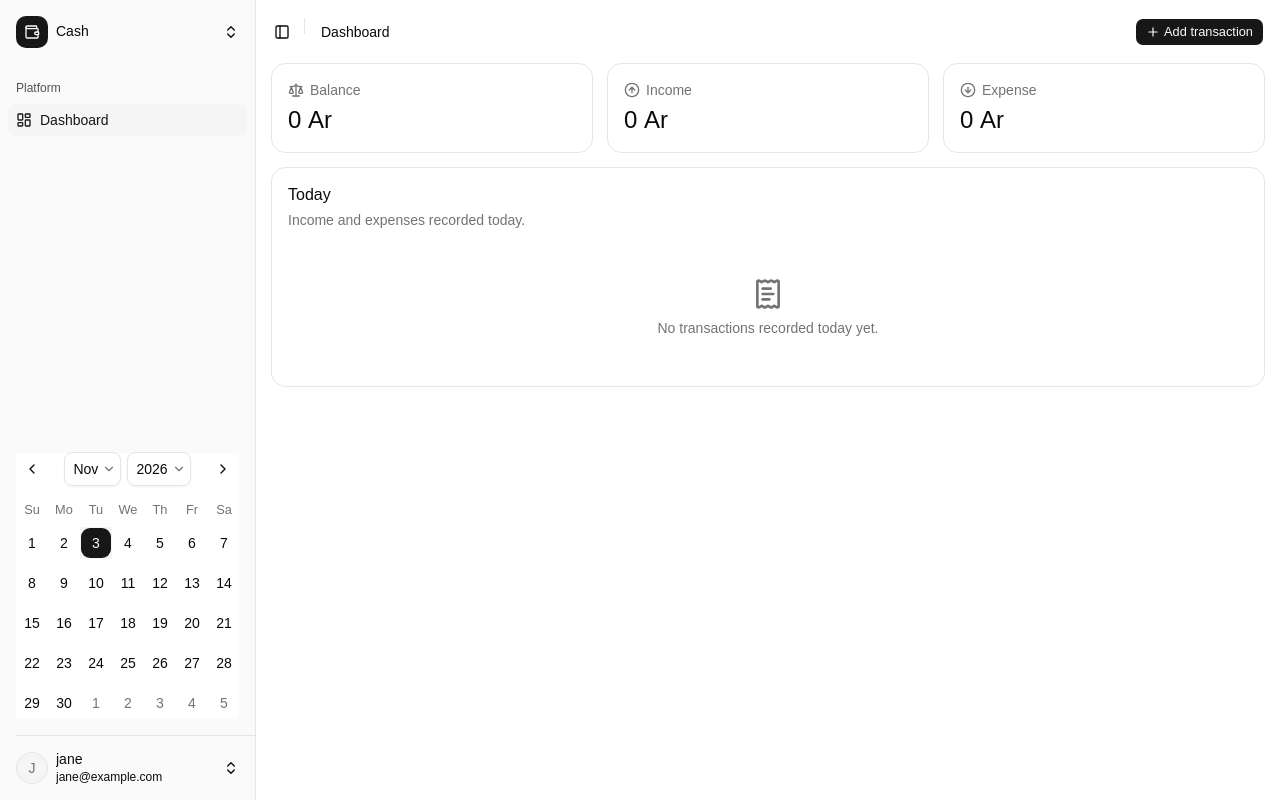
Test case: Adding an account › flags a name that is too short only once the user tries to create it
The width and height of the screenshot is (1280, 800).
Click the button "Cash" at (128, 32), box [8,8,247,56]
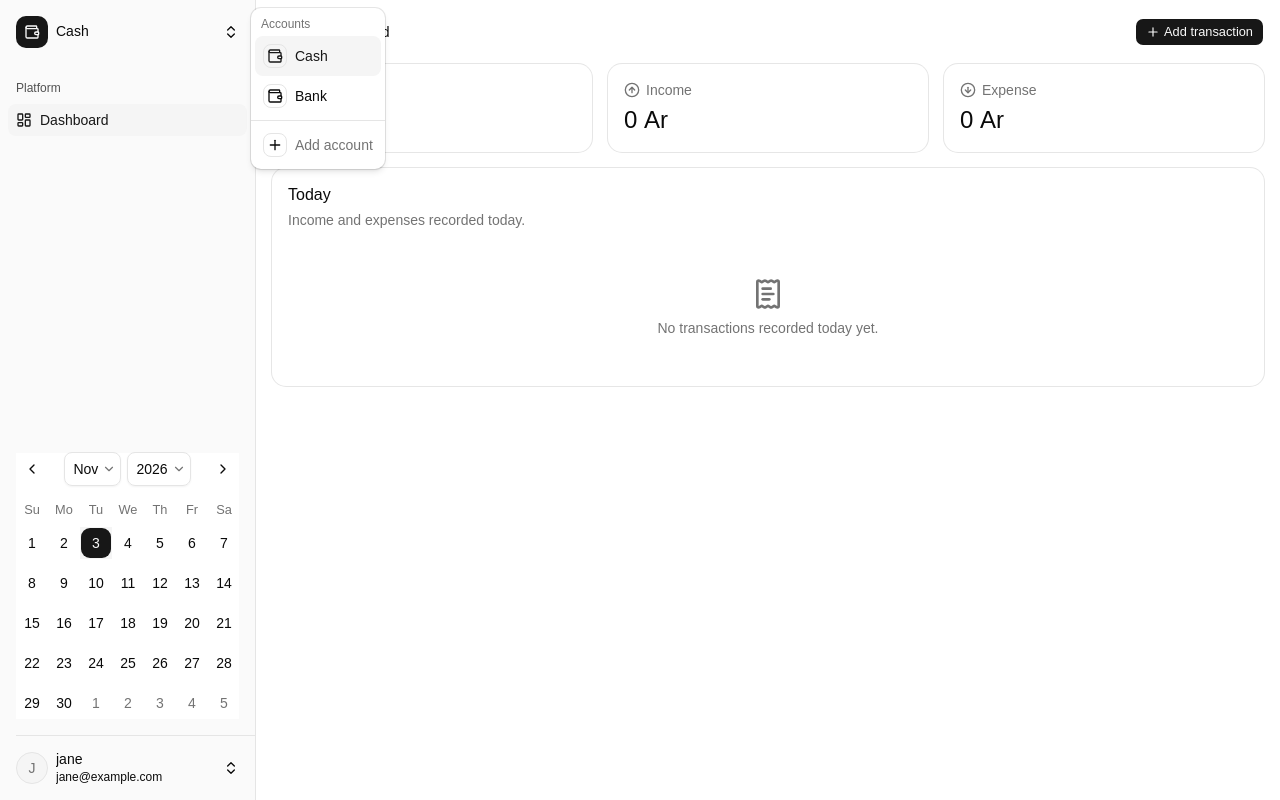
Click the menu item "Add account" at (318, 145), box [255,125,381,165]
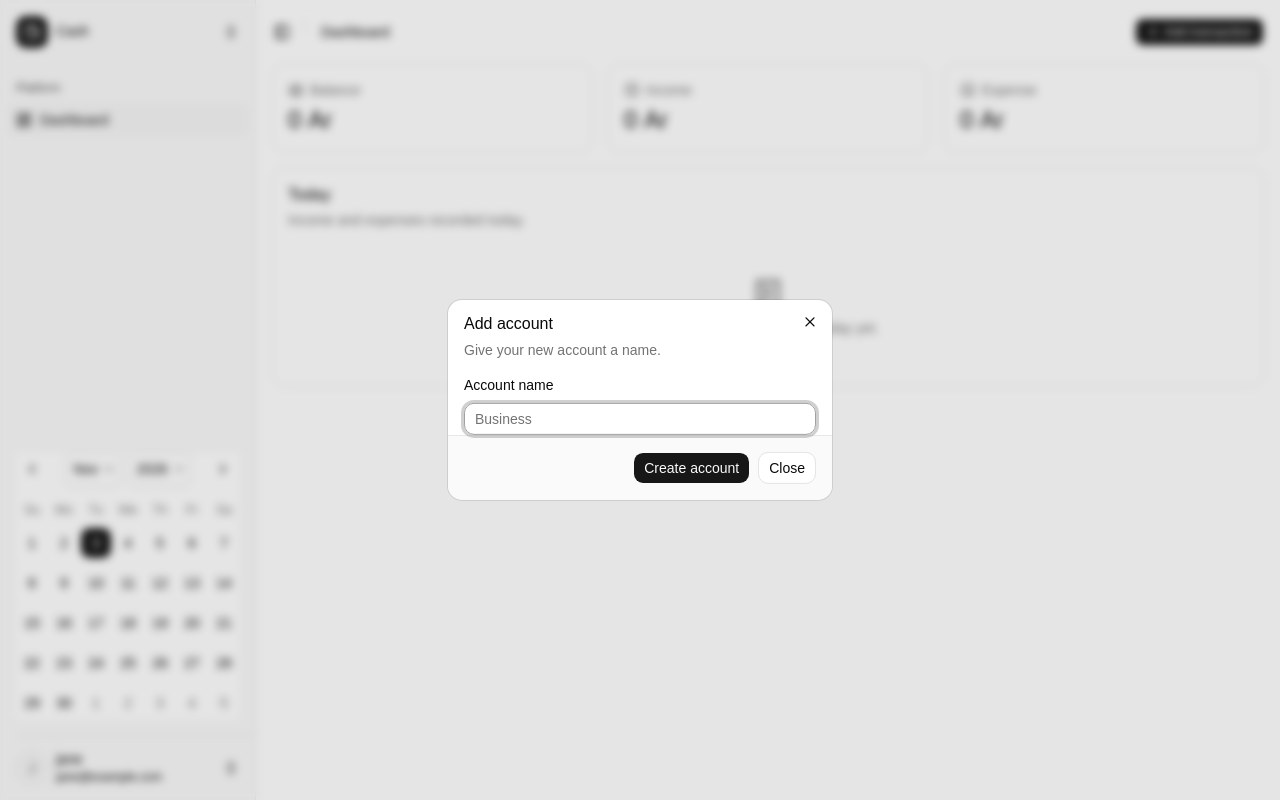
Type "a" into the field labelled "Account name" at (640, 419), box [464,403,816,435]
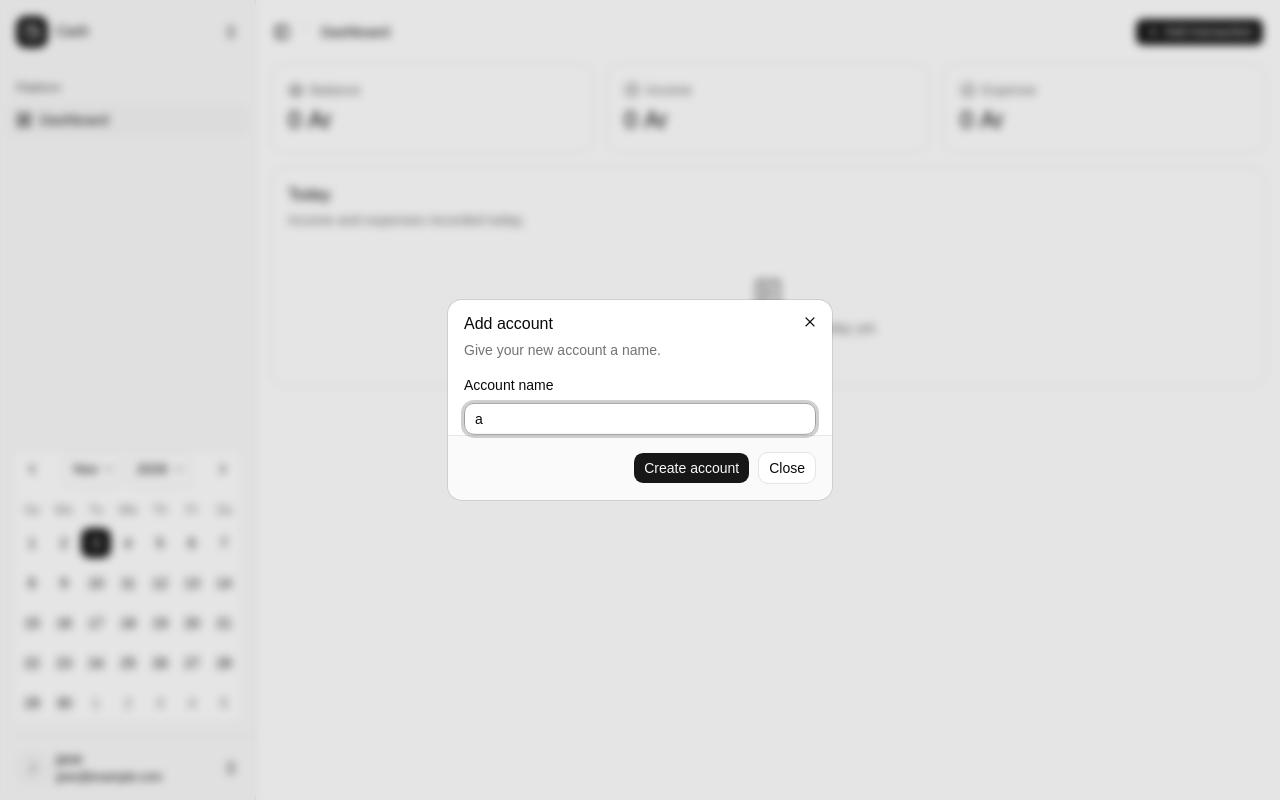
Click the heading "Add account" at (508, 323), box [464,315,553,332]
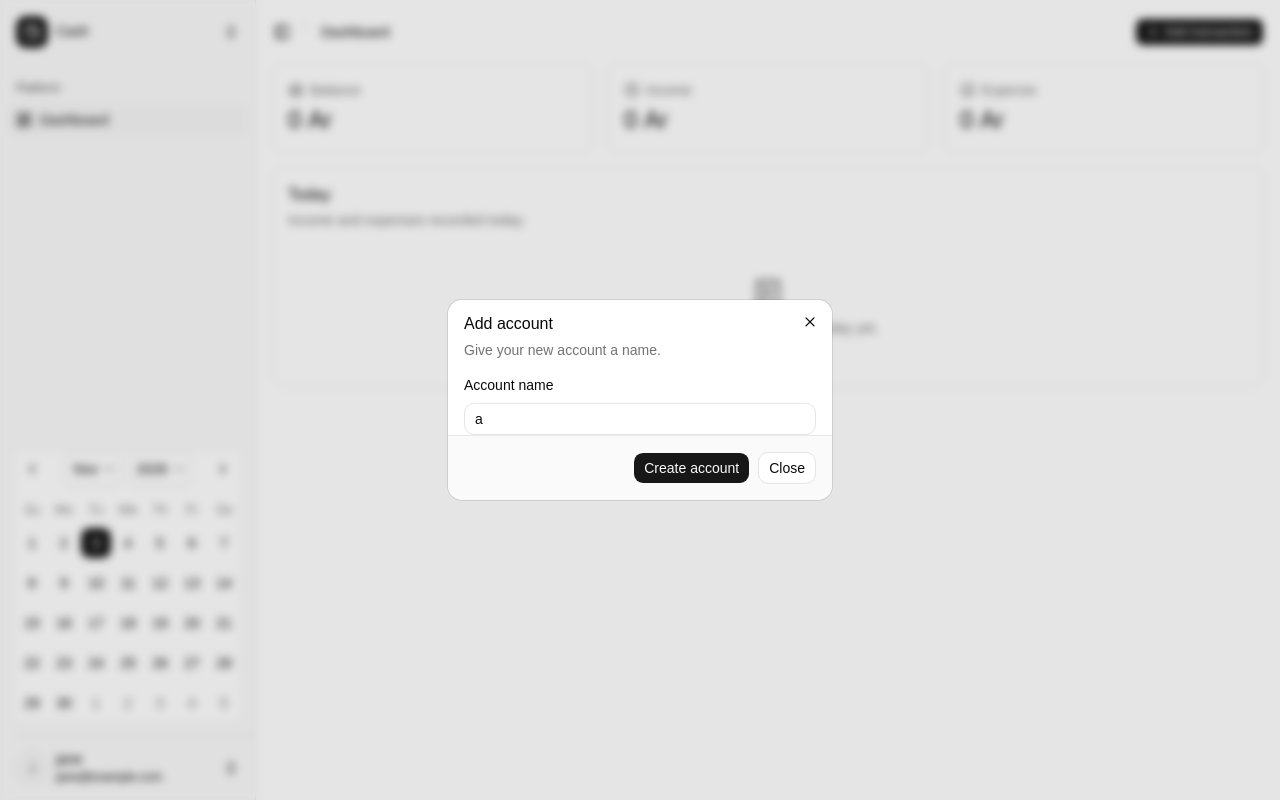
Click the button "Create account" at (692, 468), box [633,452,750,484]
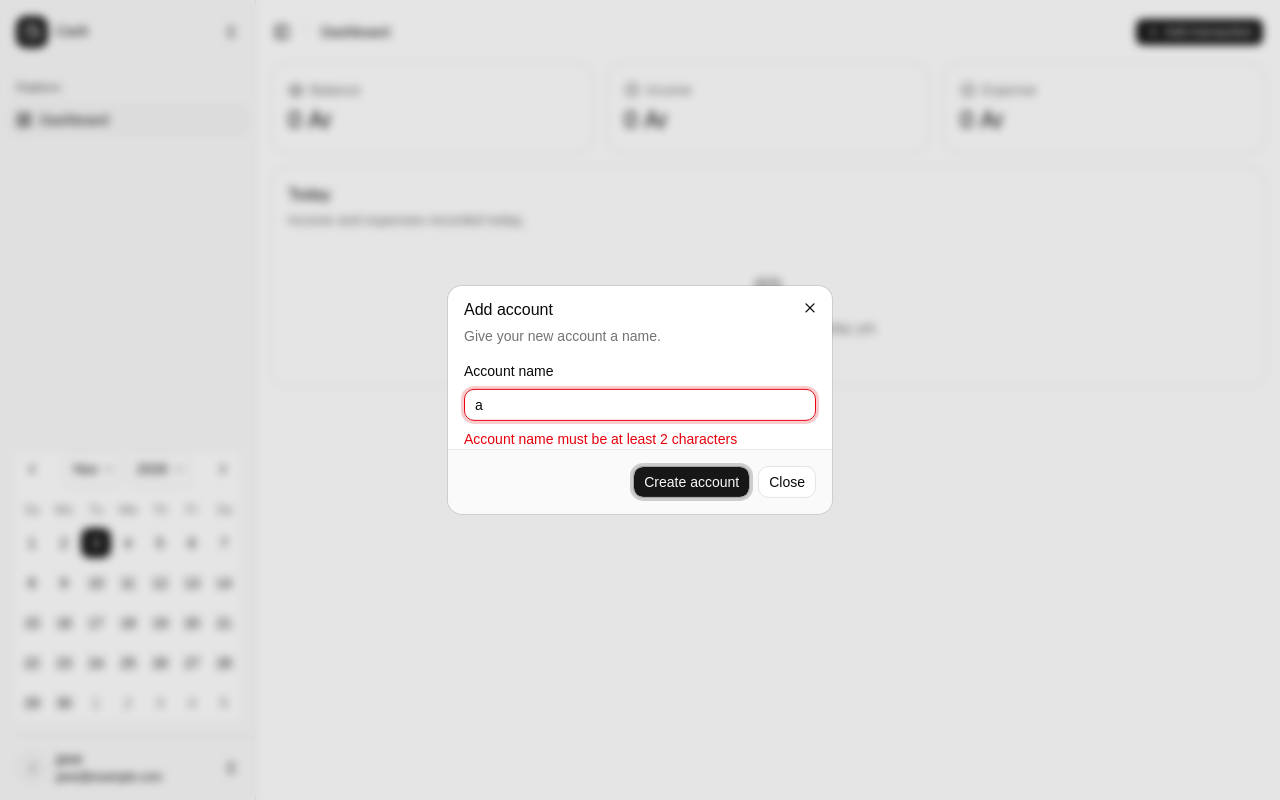
Check: the button "Create account" is enabled, box [633,466,750,498]
Check: the text "Account name must be at least 2 characters" is shown, box [464,431,737,447]
